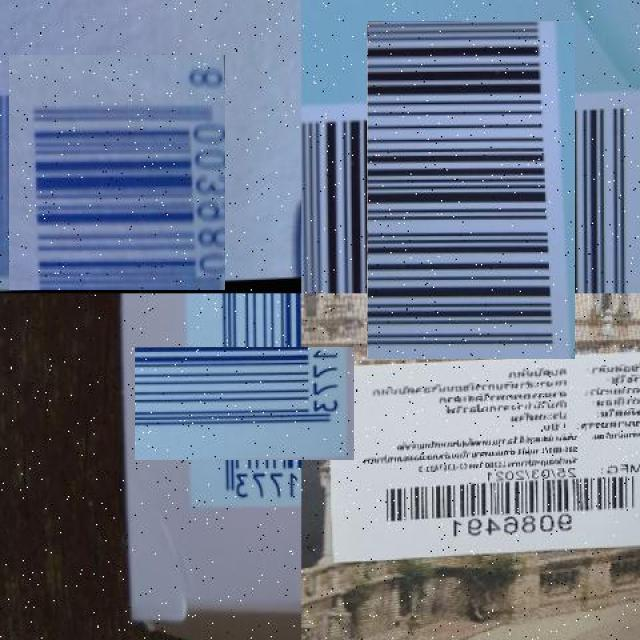Barcode: (334, 53, 607, 326), (5, 59, 230, 286), (161, 320, 328, 487), (371, 469, 640, 534)
